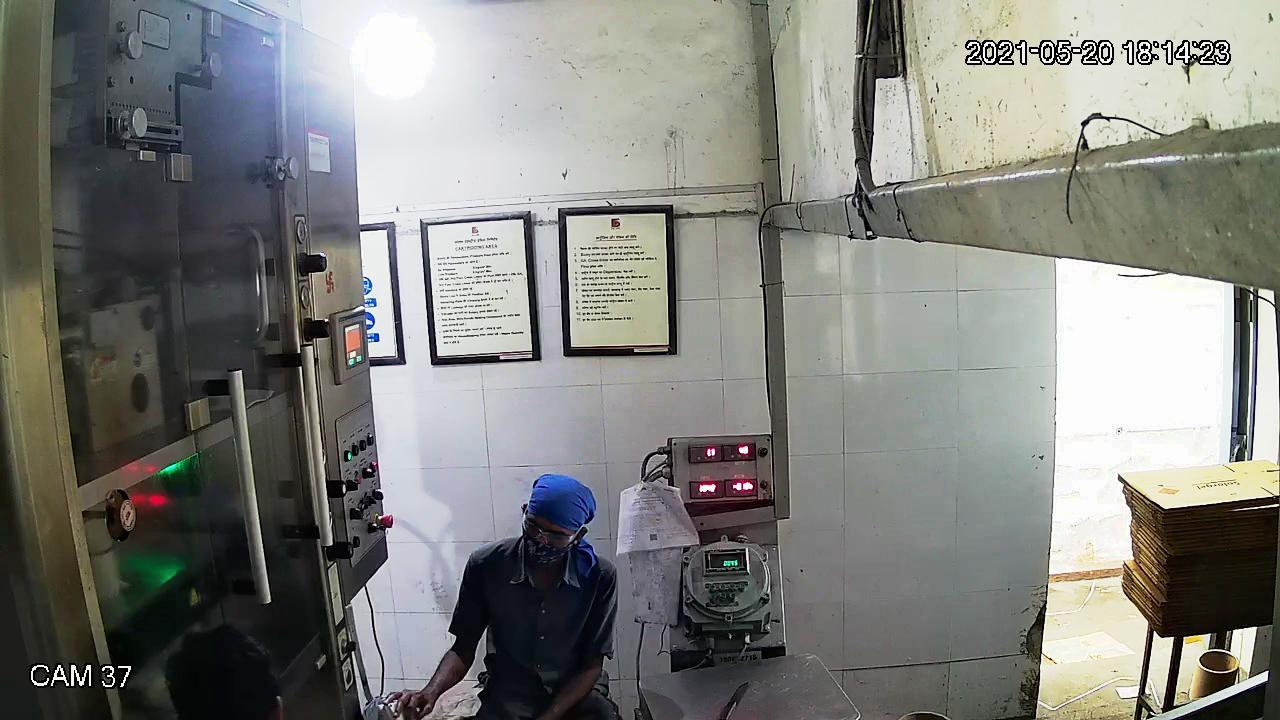person: (392, 472, 620, 720)
welding-glass: (512, 508, 590, 554)
